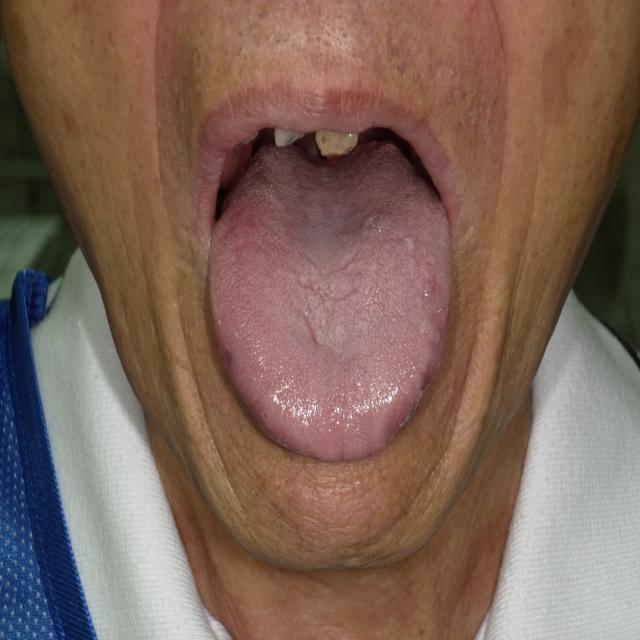baitaishe: (210, 140, 452, 463)
liewenshe: (288, 244, 363, 355)
shenquao: (275, 140, 384, 185)
